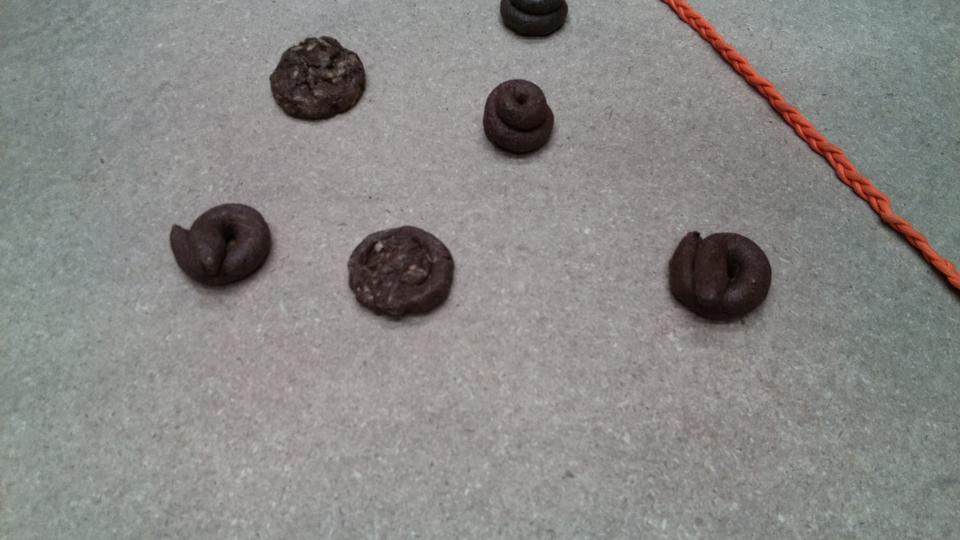poop: (344, 223, 458, 324), (665, 228, 775, 327), (167, 200, 276, 291), (267, 32, 371, 126), (481, 76, 556, 160), (493, 1, 573, 43)
rope: (680, 1, 958, 277)
